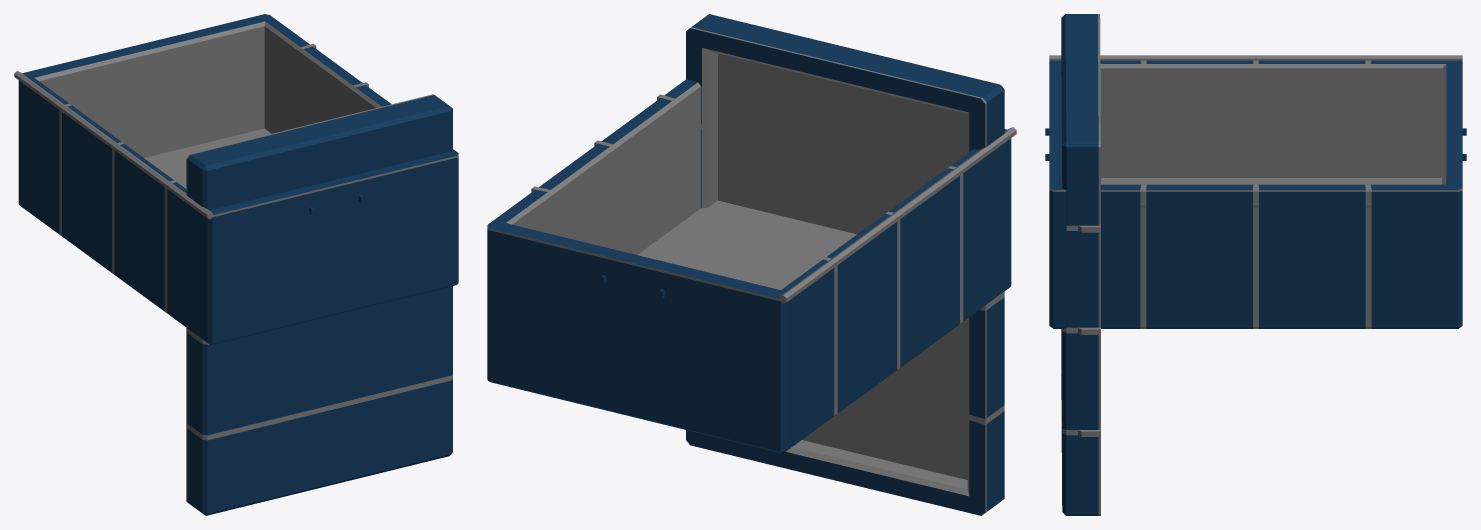
File: Valise.fbx
3 renders of one model, left to right at view 1: azimuth 30°, elevation 25°; view 2: azimuth 150°, elevation 25°; view 3: azimuth 270°, elevation 25°, orthographic. The views are drawn at different scales.
Visible parts, largest first — view 1: Boite, Dessus, Joint; view 2: Boite, Dessus, Joint; view 3: Boite, Dessus, Joint.
Boxes of the visible parts, <box> form: Boite: <box>18,14,458,344</box>; Dessus: <box>186,94,452,515</box>; Joint: <box>14,71,213,219</box>; Boite: <box>487,79,1011,453</box>; Dessus: <box>686,14,1004,515</box>; Joint: <box>779,127,1016,303</box>; Boite: <box>1045,60,1466,328</box>; Dessus: <box>1061,14,1100,515</box>; Joint: <box>1049,55,1462,60</box>.
Size of the model in its own units: 0.7678 by 1 by 1.02.
